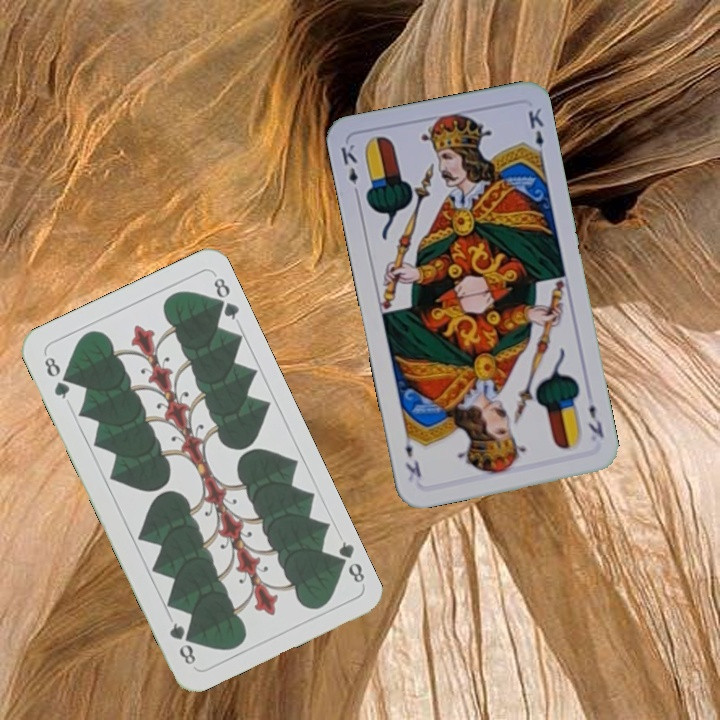EK: (336, 140, 362, 200), (584, 400, 607, 441)
G8: (329, 537, 368, 586), (40, 352, 73, 402)
